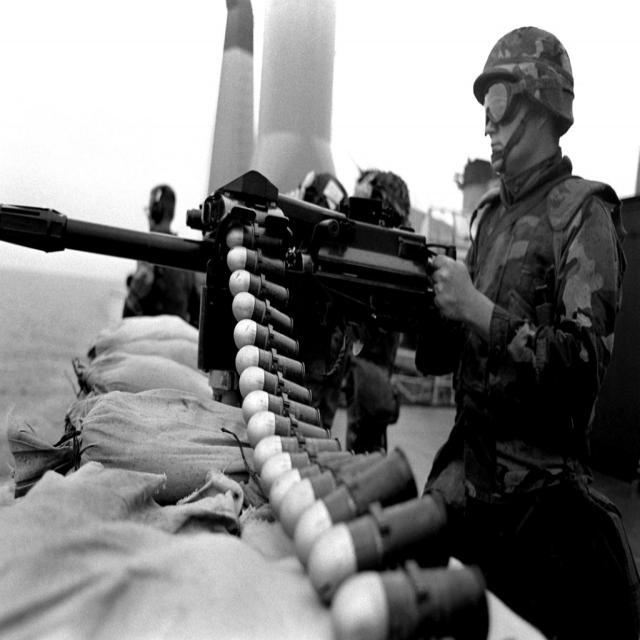weapon: (0, 167, 476, 406)
